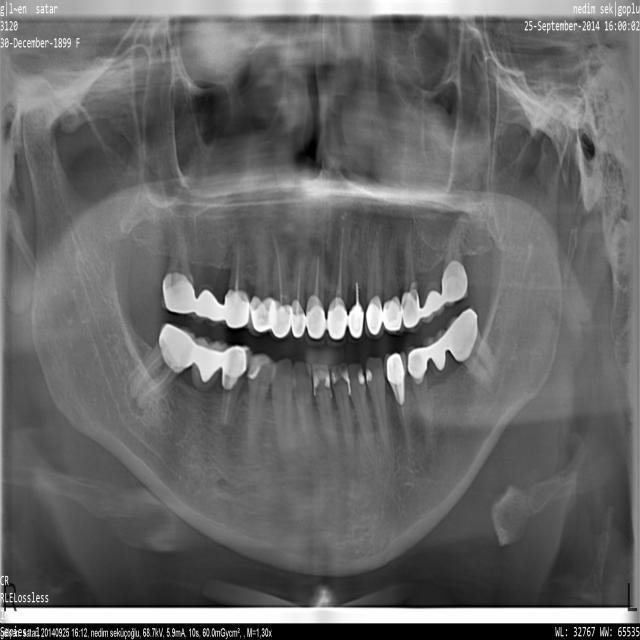Canine: (366, 357, 393, 460), (365, 226, 384, 340), (271, 229, 290, 341), (271, 359, 292, 458)
Incisores: (347, 364, 376, 461), (326, 224, 347, 348), (304, 224, 325, 347), (312, 364, 337, 452), (331, 362, 353, 452), (348, 227, 365, 343), (291, 362, 315, 443), (290, 243, 305, 342)
Premolars: (384, 352, 412, 459), (405, 345, 434, 444), (247, 353, 275, 454), (220, 345, 252, 427), (223, 230, 249, 329), (247, 227, 269, 337), (383, 228, 403, 335), (402, 227, 422, 333)
molars: (130, 322, 194, 408), (447, 306, 498, 384), (161, 211, 195, 313), (442, 213, 469, 307), (190, 337, 224, 389), (425, 329, 448, 374), (194, 285, 221, 323), (422, 279, 443, 321)
